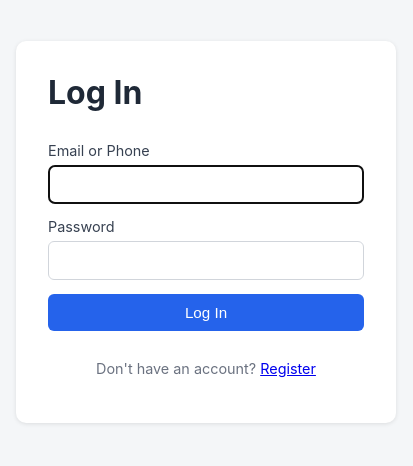
Test: LoginPage › shows an error message when login fails
This screenshot has width=413, height=466.
Type "jane@example.com" into the field labelled "Email or Phone" at coordinates (206, 185), box [48,165,364,204]
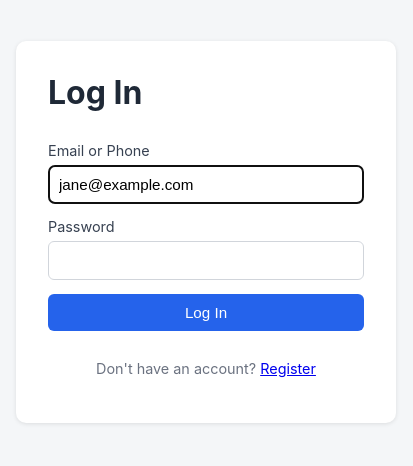
Type "wrong-password" into the password field labelled "Password" at coordinates (206, 261), box [48,241,364,280]
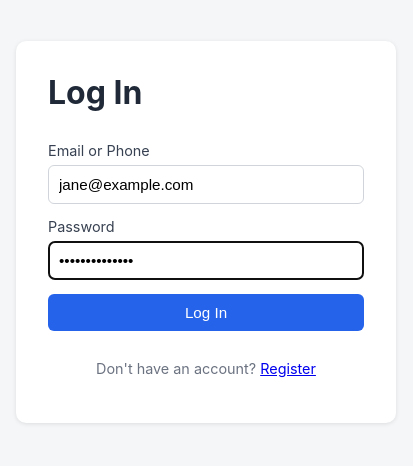
Click the button "Log In" at coordinates (206, 313), box [48,294,364,331]
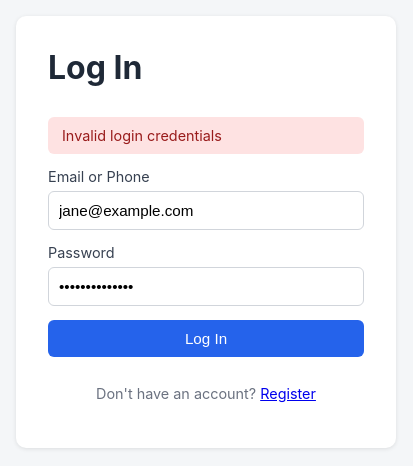
Check: the text "Invalid login credentials" is shown, box [48,117,364,154]
